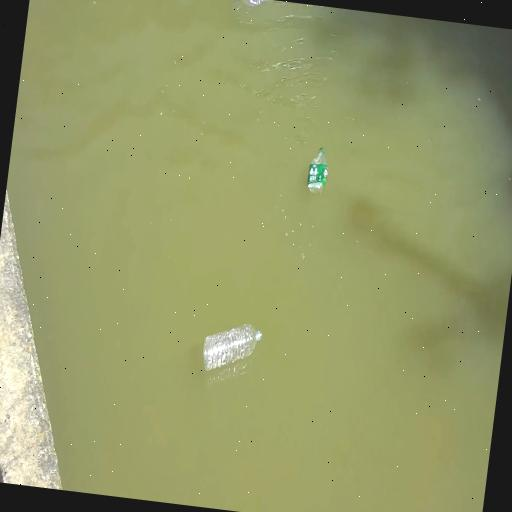plastic: (199, 314, 265, 378), (304, 142, 332, 198), (234, 0, 273, 10)
